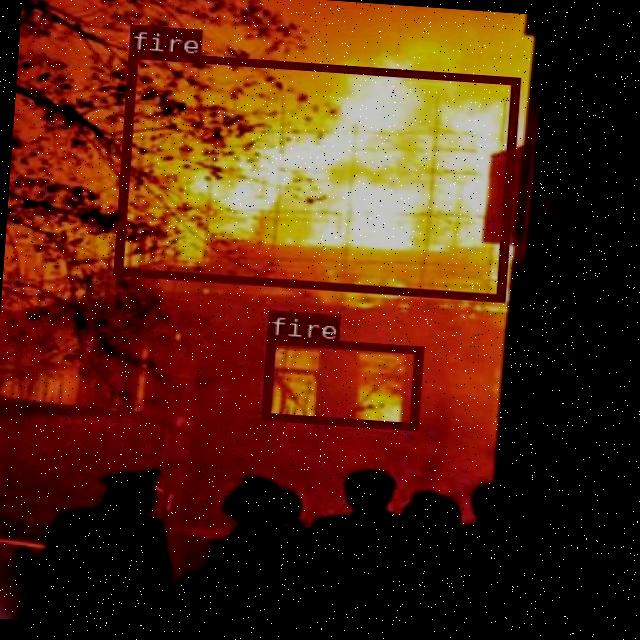fire: (110, 49, 518, 300), (260, 334, 421, 428)
